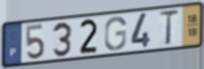2: (79, 18, 98, 55)
3: (51, 20, 73, 59)
4: (130, 12, 154, 50)
5: (25, 22, 46, 61)
G: (103, 15, 128, 52)
T: (158, 8, 181, 47)
